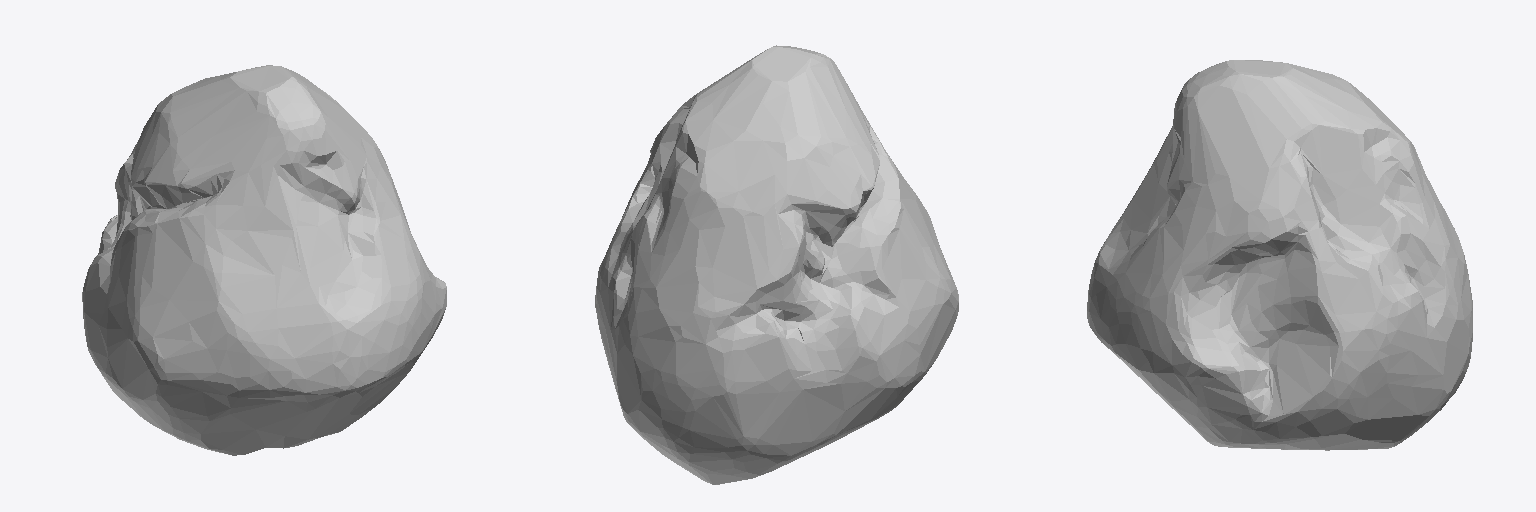
The model's file is asteroid2.obj.
The picture shows the model from 3 angles: view 1: azimuth 30°, elevation 25°; view 2: azimuth 150°, elevation 25°; view 3: azimuth 270°, elevation 25°; orthographic projection.
Parts seen in each view (by area): view 1: rock; view 2: rock; view 3: rock.
Part boxes in pixels (x1,y1,x2,y2): rock: (82, 65, 446, 455); rock: (595, 45, 958, 484); rock: (1087, 60, 1472, 450).
Bounding box in the file's own units: 87.77 × 105 × 96.82.